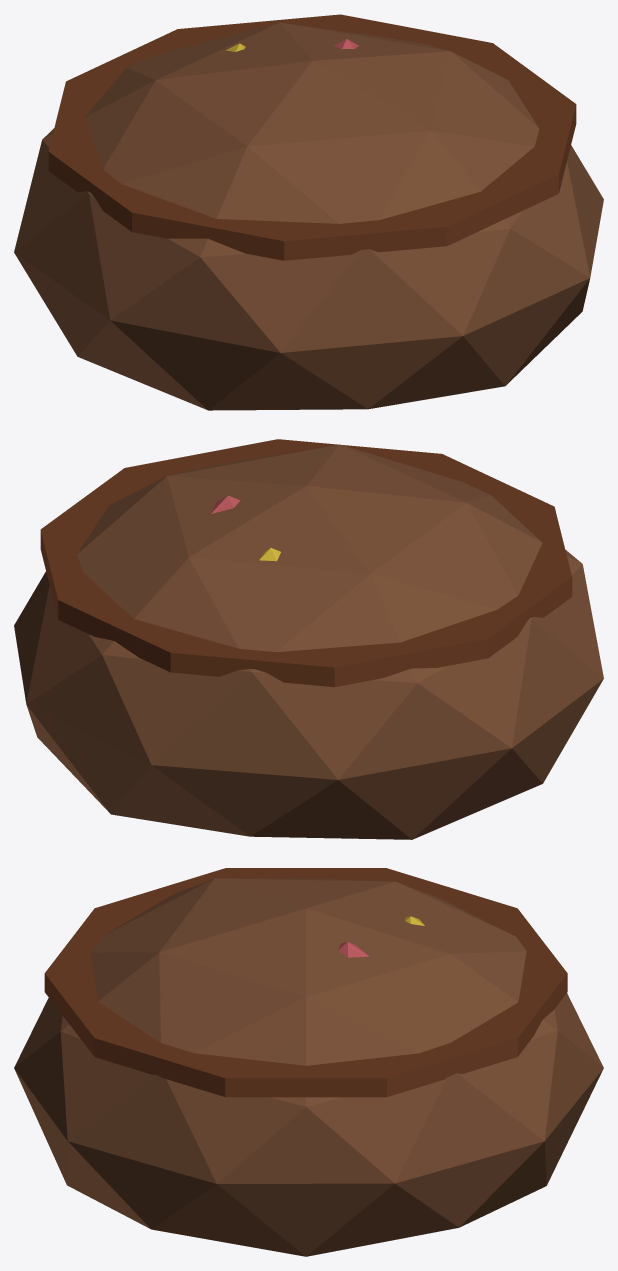
File: Stew.fbx
The picture shows the model from 3 angles, top to bottom: view 1: azimuth 30°, elevation 25°; view 2: azimuth 150°, elevation 25°; view 3: azimuth 270°, elevation 25°; orthographic projection. The views are drawn at different scales.
Parts seen in each view (by area): view 1: Stew; view 2: Stew; view 3: Stew.
Boxes of the visible parts, x1,y1,x2,y2 form: Stew: (14, 14, 603, 410); Stew: (14, 439, 603, 839); Stew: (14, 868, 603, 1256).
Bounding box in the file's own units: 0.2658 × 0.1346 × 0.2821.
